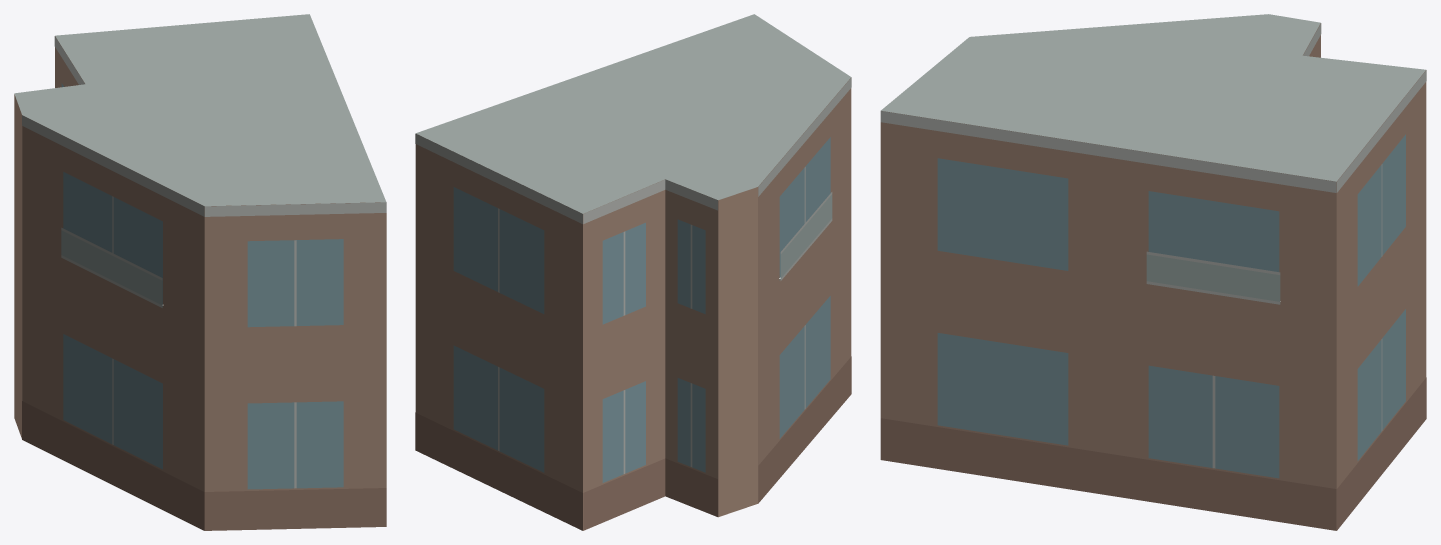
File: survey-upis-32990333.glb
3 views of the same model, side by side, from view 1: azimuth 30°, elevation 25°; view 2: azimuth 150°, elevation 25°; view 3: azimuth 270°, elevation 25° (orthographic). The views are drawn at different scales.
Parts seen in each view (by area): view 1: survey-upis-32990333.tmp; view 2: survey-upis-32990333.tmp; view 3: survey-upis-32990333.tmp.
Boxes of the visible parts, x1,y1,x2,y2 form: survey-upis-32990333.tmp: (14, 14, 386, 530); survey-upis-32990333.tmp: (415, 14, 851, 530); survey-upis-32990333.tmp: (880, 14, 1426, 530).
Size of the model in its own units: 7.63 by 7.4 by 10.49.
